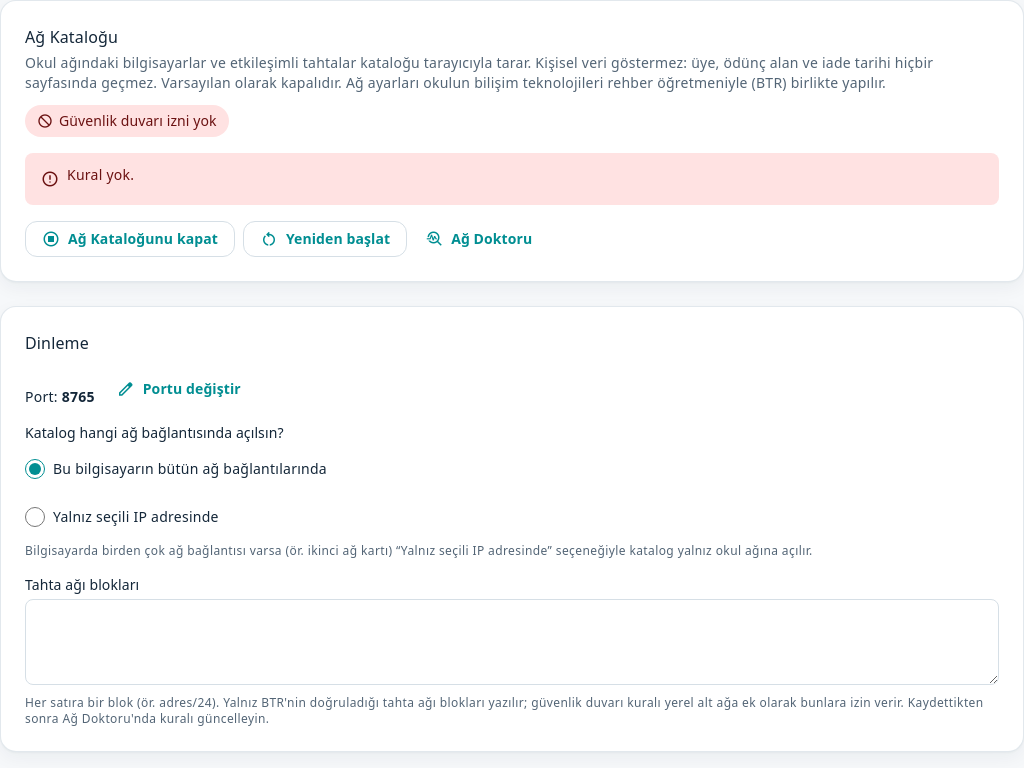
Test case: Ağ Kataloğu — aç/kapa › ayar açık ama güvenlik duvarı izni yoksa ayar kapatılabilir ve yeniden denenir
Expected: the button "Ağ Kataloğunu aç" is not shown
Step 1. Click the button "Yeniden başlat" → point(325, 239), box [243, 221, 407, 257]
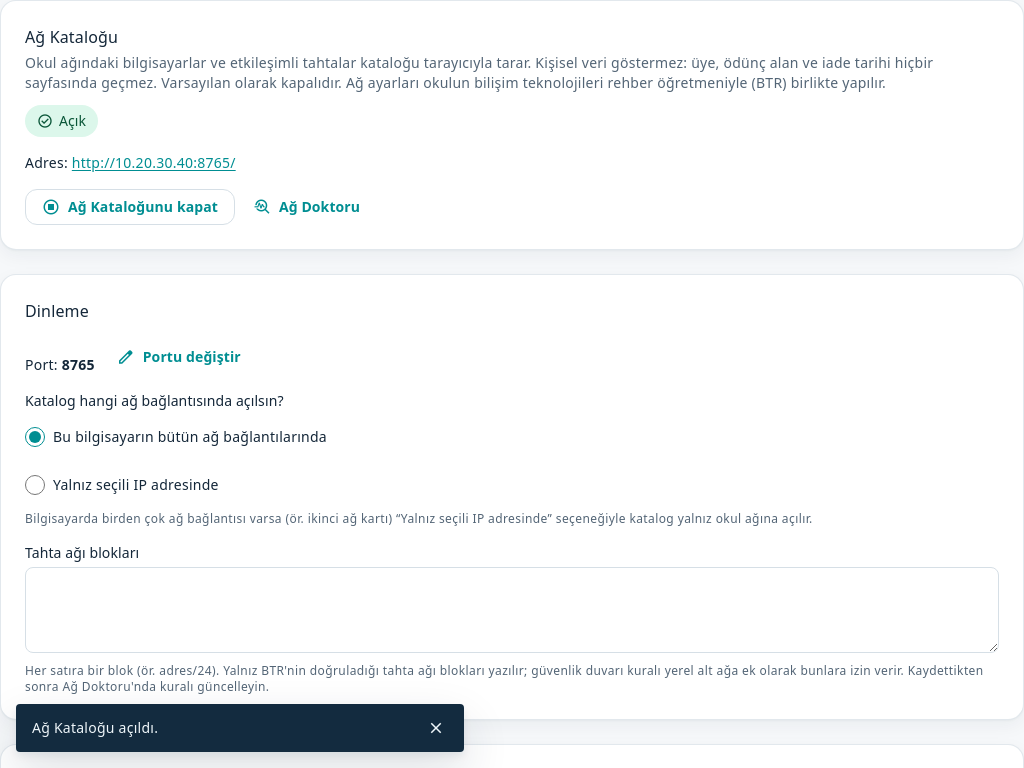
Expected: the text "Ağ Kataloğu açıldı." is shown, [32, 718, 158, 737]
Step 2. Click the button "Ağ Kataloğunu kapat" → point(130, 207), box [25, 189, 235, 225]
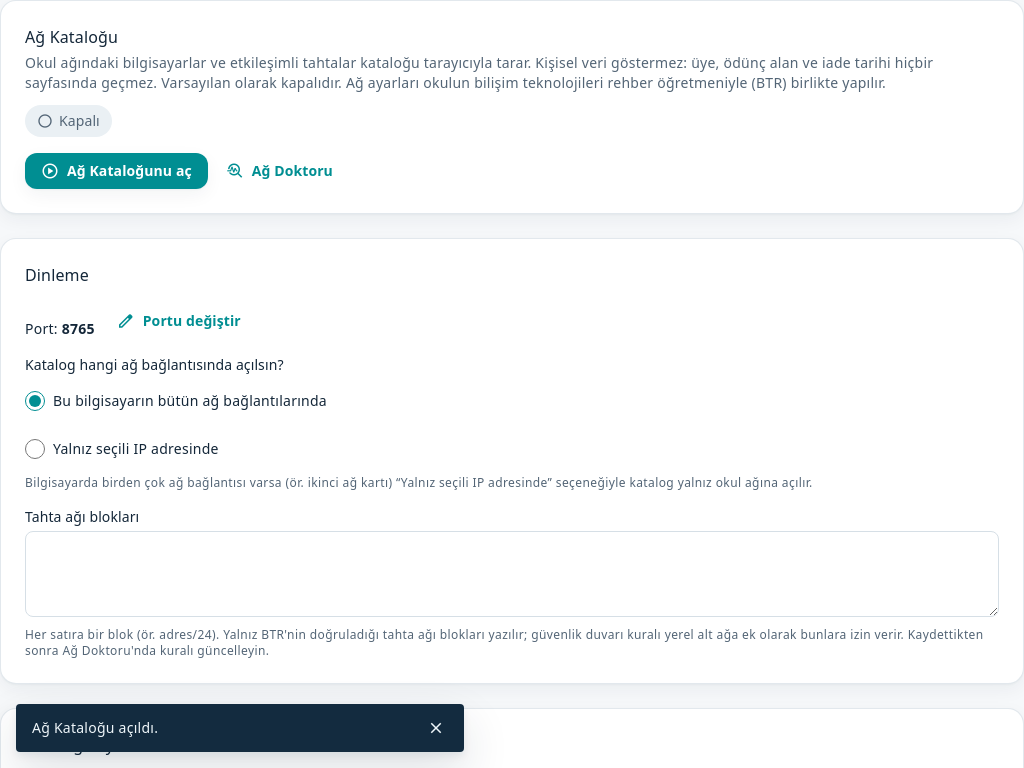
Expected: the button "Ağ Kataloğunu aç" is shown, [25, 153, 208, 189]
